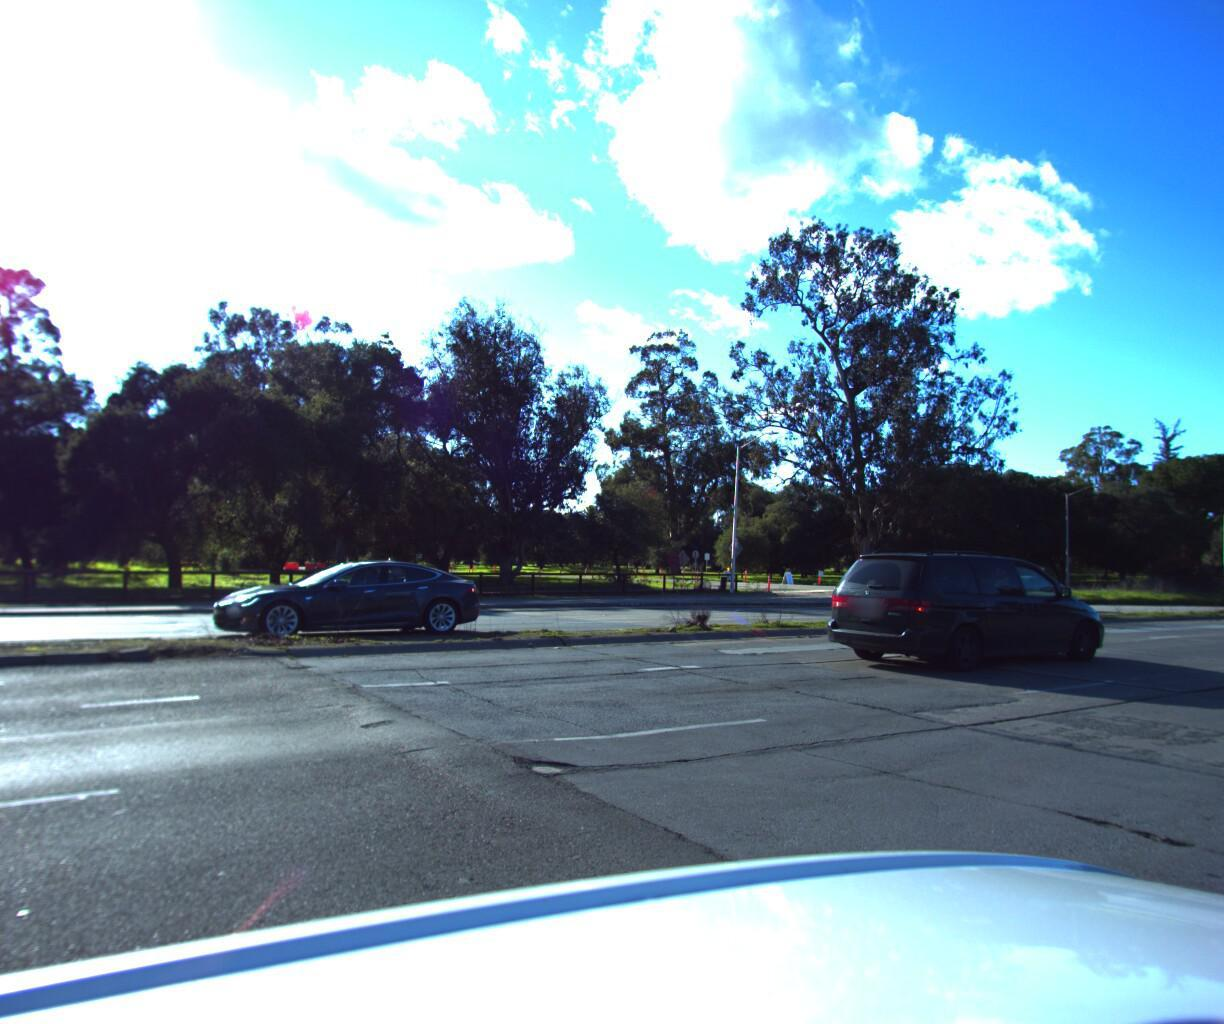car: (810, 536, 1112, 672), (192, 554, 488, 639)
